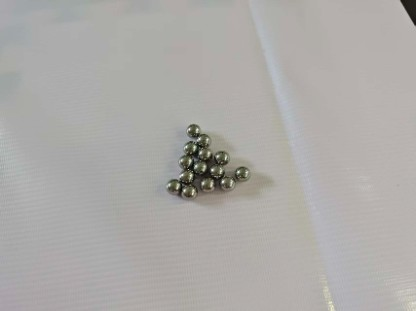ironball: (219, 172, 237, 194), (232, 163, 249, 183), (164, 176, 181, 196), (180, 181, 196, 201), (178, 167, 196, 184), (192, 158, 210, 175), (183, 120, 199, 139), (195, 129, 211, 148), (213, 146, 228, 166), (199, 172, 214, 190), (177, 153, 192, 170), (196, 145, 210, 162), (209, 163, 223, 179), (183, 140, 196, 156)
